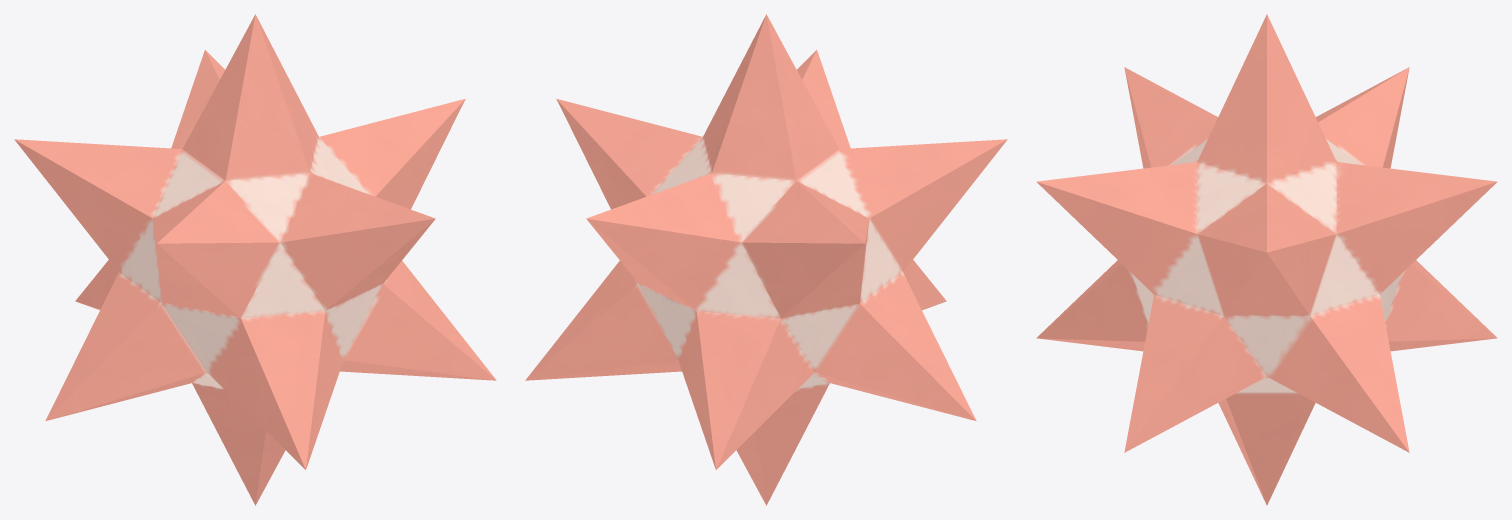
File: star-cinder.glb
3 renders of one model, left to right at view 1: azimuth 30°, elevation 25°; view 2: azimuth 150°, elevation 25°; view 3: azimuth 270°, elevation 25°, orthographic.
Parts seen in each view (by area): view 1: Star_Cinder; view 2: Star_Cinder; view 3: Star_Cinder.
Boxes of the visible parts, left/top/right/bottom form: Star_Cinder: left=14, top=14, right=496, bottom=505; Star_Cinder: left=525, top=14, right=1007, bottom=505; Star_Cinder: left=1036, top=14, right=1497, bottom=505.
Bounding box in the file's own units: 3.13 × 3.5 × 2.98.
Materials: 1 (1 with a texture image).
